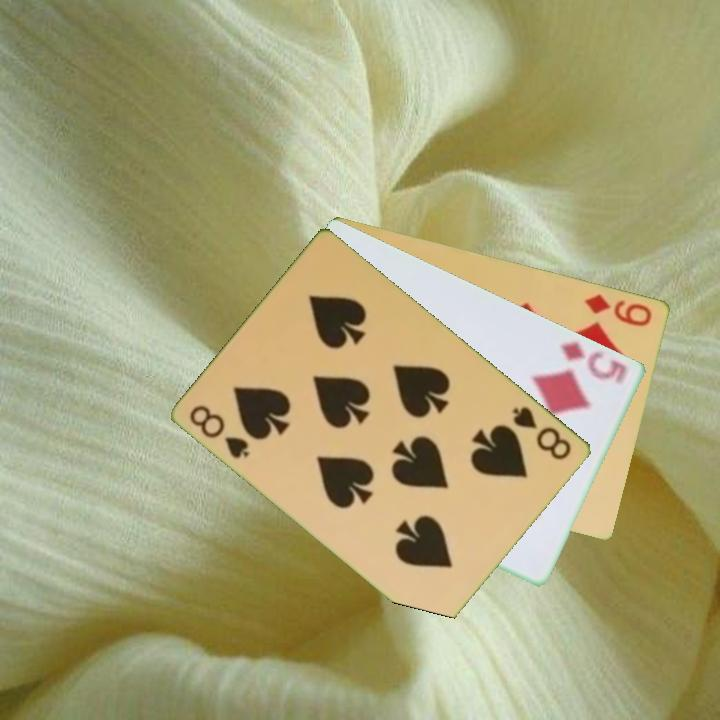5d: (558, 338, 631, 387)
8s: (186, 401, 254, 461), (509, 402, 575, 463)
9d: (581, 290, 655, 329)
